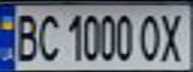0: (115, 10, 136, 62), (81, 10, 100, 62), (100, 10, 118, 62)
1: (63, 10, 84, 62)
B: (9, 9, 42, 63)
C: (33, 10, 60, 63)
O: (136, 10, 163, 63)
X: (157, 9, 190, 63)
